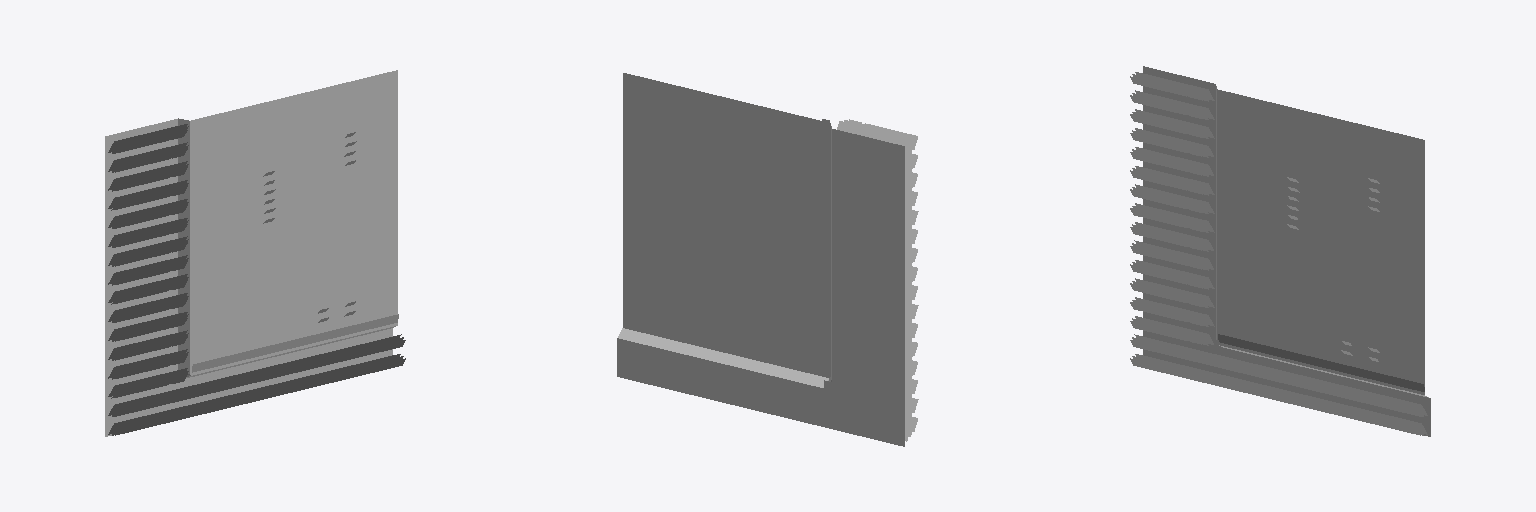
File: Plat_full_03_18.obj
3 renders of one model, left to right at view 1: azimuth 30°, elevation 25°; view 2: azimuth 150°, elevation 25°; view 3: azimuth 330°, elevation 25°, orthographic.
Parts seen in each view (by area): view 1: map; view 2: map; view 3: map.
Part boxes in pixels (x1,y1,x2,y2): map: (105,70,405,436); map: (617,73,918,446); map: (1130,66,1430,436).
Bounding box in the file's own units: 32 × 32.12 × 2.64.